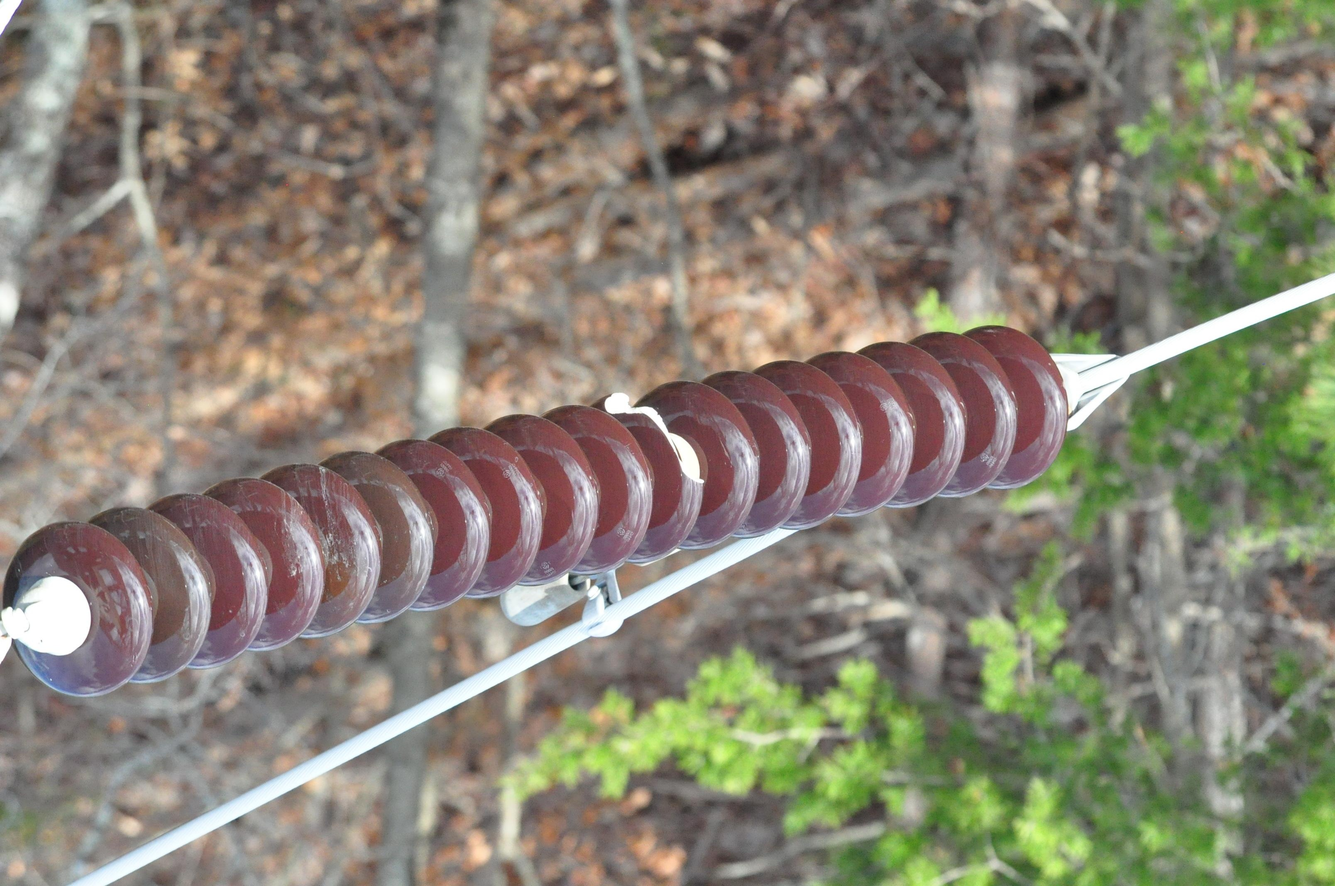damaged: (606, 386, 707, 489)
hammer: (504, 548, 654, 652)
insulator: (19, 321, 1066, 694)
